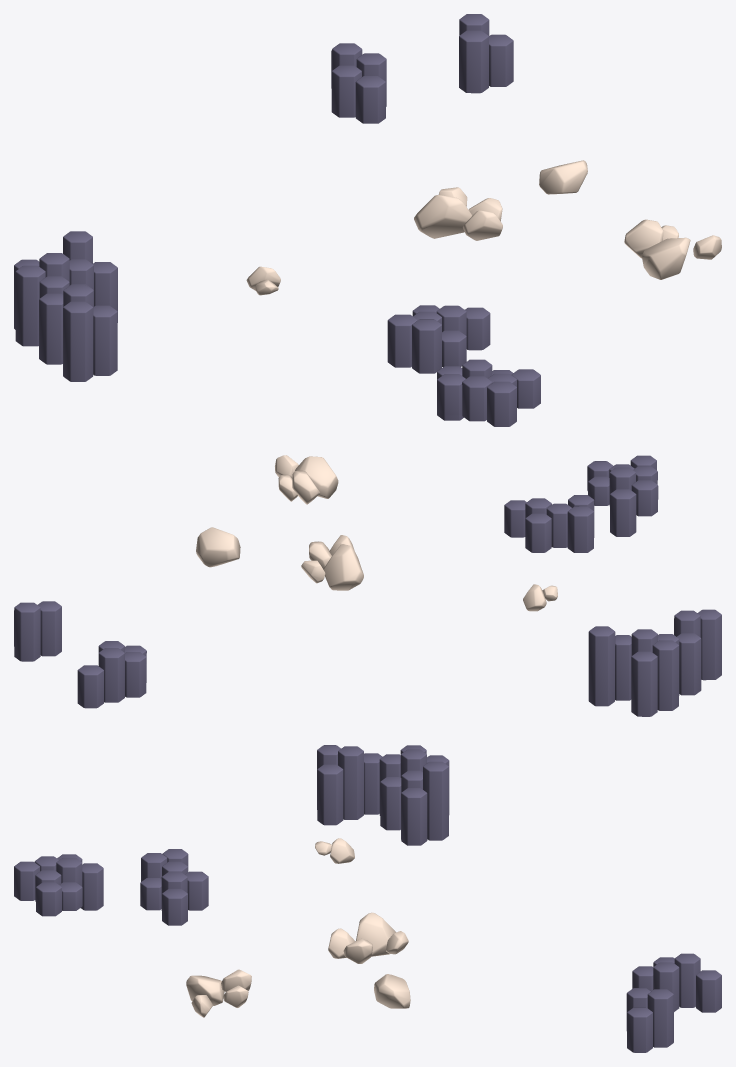
Rendered from sceneryStaticVisual.glb.
3 views of the same model, one above another, from view 1: azimuth 30°, elevation 25°; view 2: azimuth 150°, elevation 25°; view 3: azimuth 270°, elevation 25° (orthographic). The views are drawn at different scales.
Parts seen in each view (by area): view 1: Cylinder.022, Cube.122, Cube.129, Cube.124, Cube.130, Cube.123; view 2: Cylinder.022, Cube.124, Cube.122, Cube.129, Cube.130, Cube.126, Cube.054; view 3: Cylinder.022, Cube.122, Cube.124, Cube.129, Cube.054, Cube.123.
Part boxes in pixels (x1,y1,x2,y2): Cylinder.022: (14, 14, 540, 426); Cube.122: (414, 195, 472, 238); Cube.129: (642, 237, 690, 279); Cube.124: (539, 160, 587, 194); Cube.130: (624, 219, 663, 258); Cube.123: (463, 210, 502, 240); Cylinder.022: (14, 455, 721, 716); Cube.124: (196, 527, 240, 567); Cube.122: (323, 544, 363, 590); Cube.129: (295, 456, 338, 498); Cube.130: (292, 470, 320, 504); Cube.126: (523, 584, 546, 611); Cube.054: (309, 541, 331, 569); Cylinder.022: (14, 745, 721, 1052); Cube.122: (356, 912, 395, 956); Cube.124: (374, 974, 410, 1008); Cube.129: (186, 975, 224, 1005); Cube.054: (343, 938, 372, 963); Cube.123: (328, 928, 355, 958).
Bounding box in the file's own units: 35 × 4.32 × 39.8.
